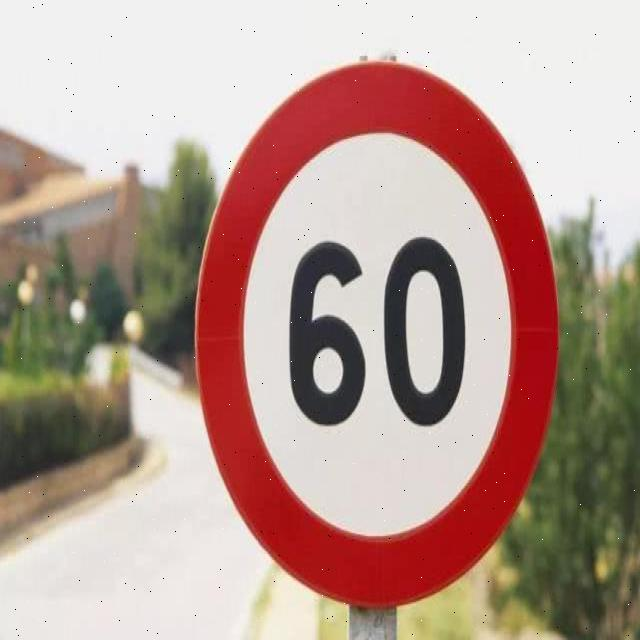speed limit 60: (193, 52, 561, 612)
